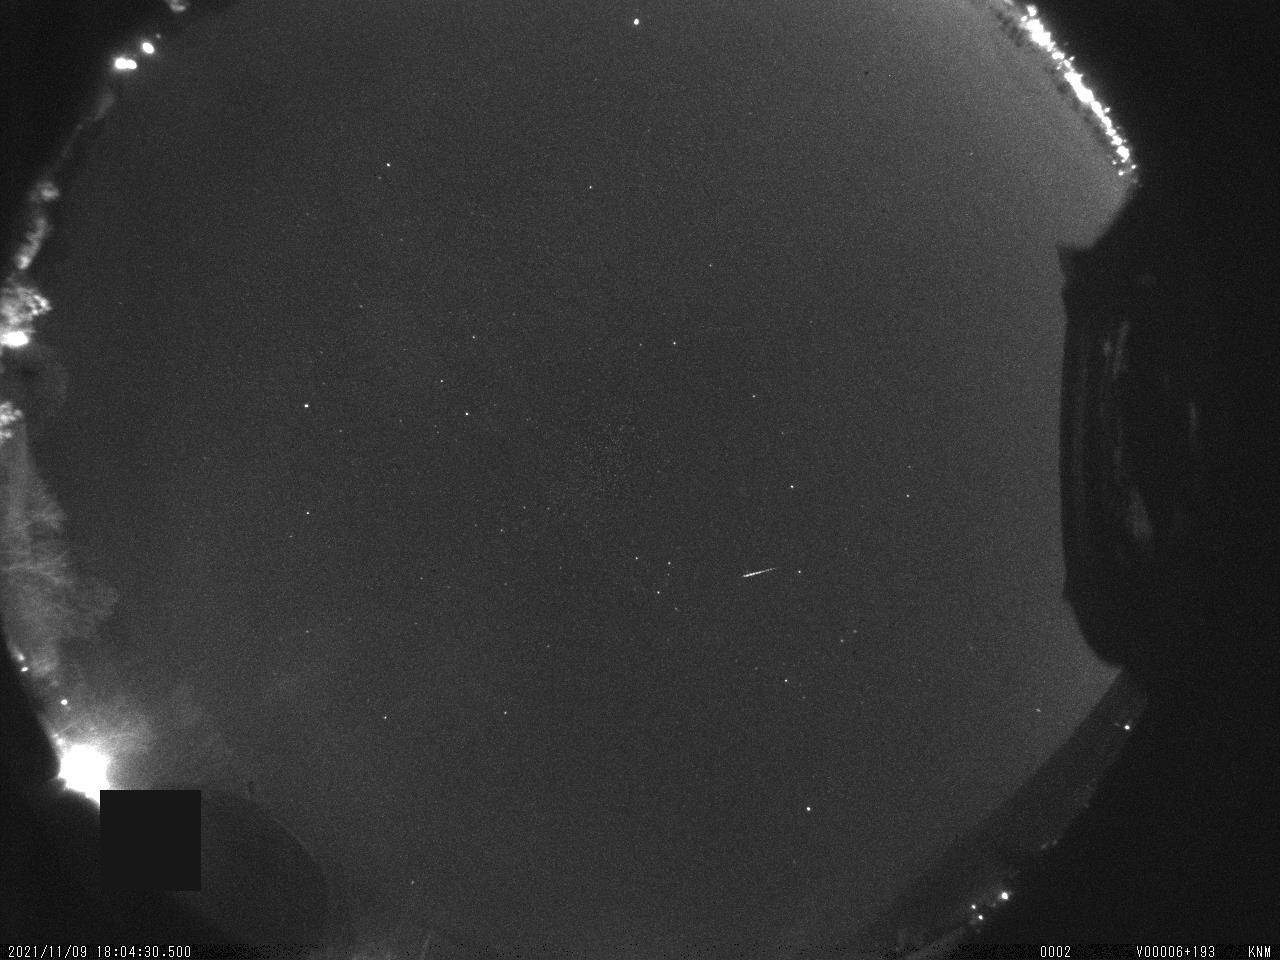meteor: (733, 546, 821, 594)
